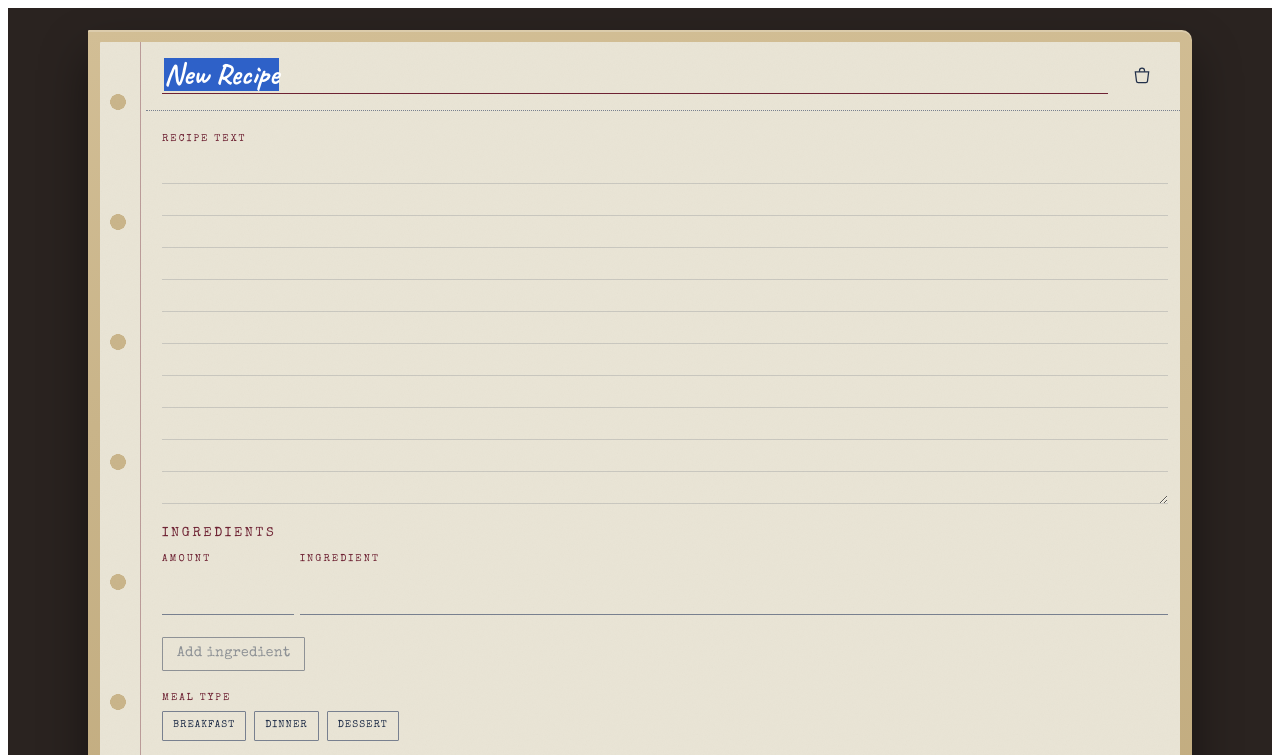
Scenario: rejection › names both when both are empty
Clear the field with test id "name". click: (635, 76)
box: [162,58,1108,94]
(page scrolled)
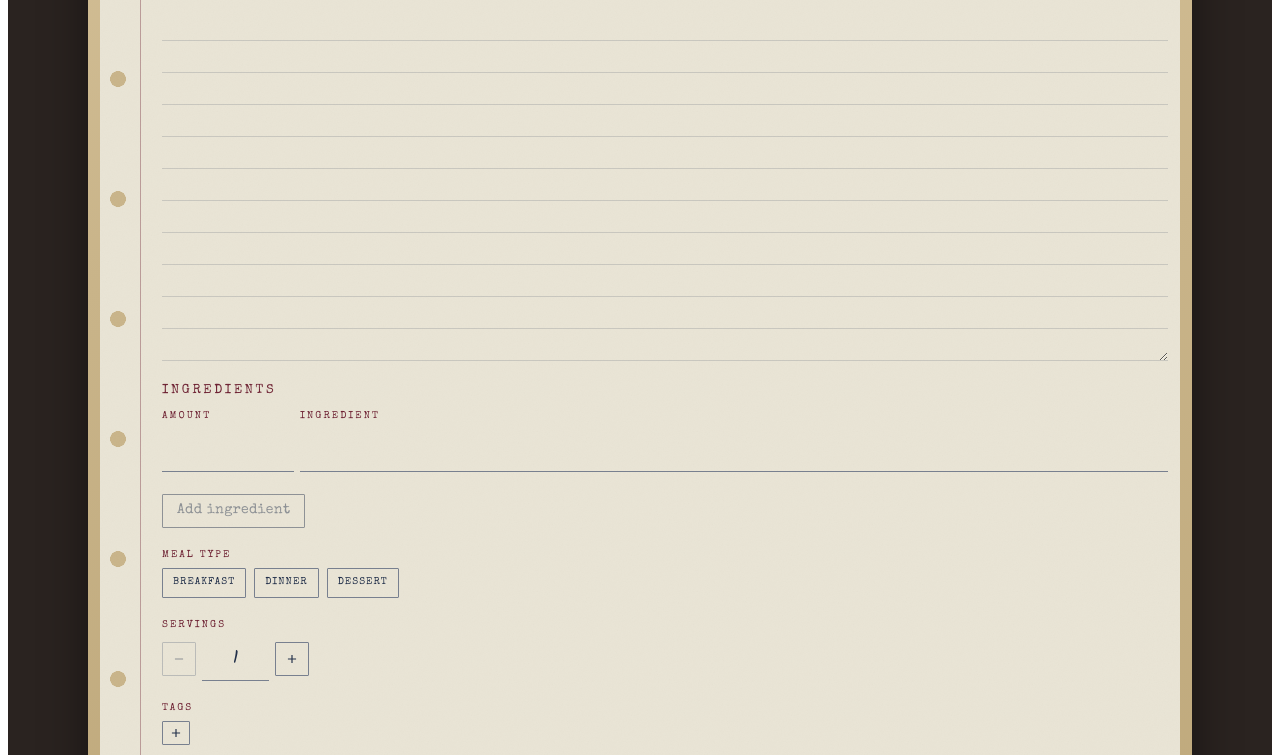
Submit the form
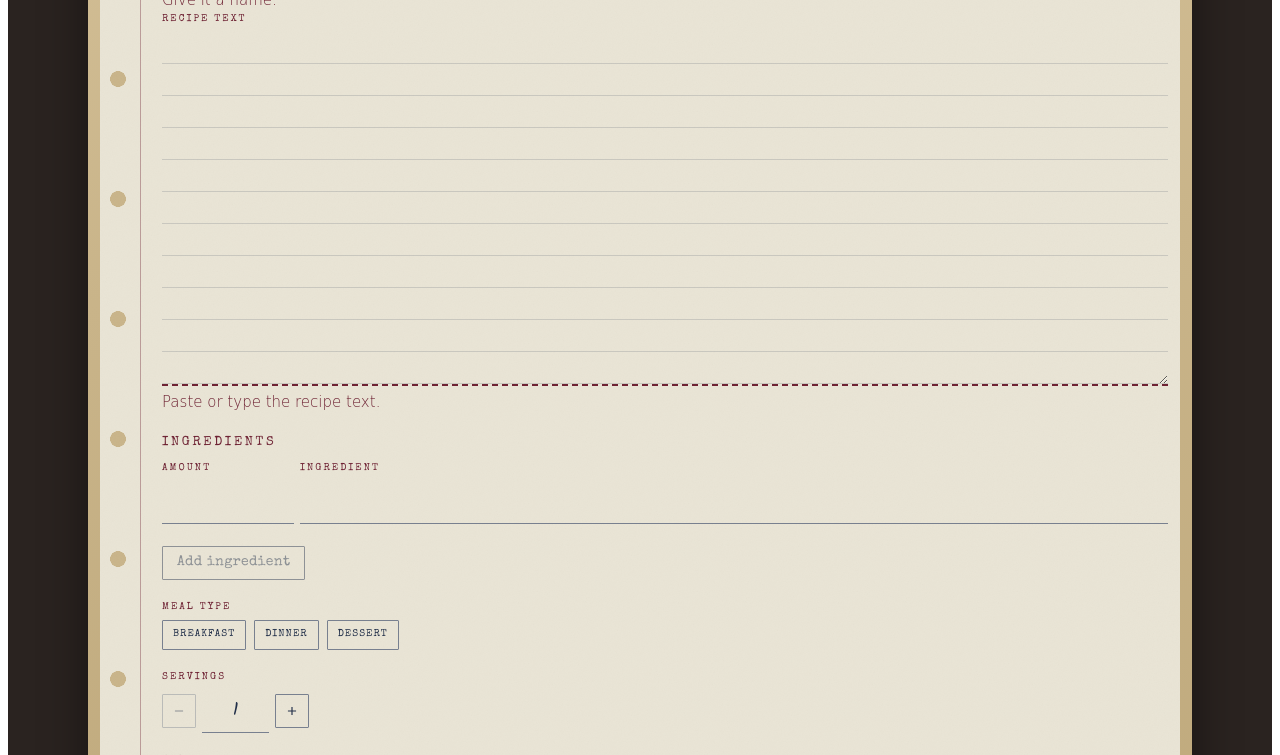
Expected: the message with test id "body-error" reads "Paste or type the recipe text.", [162,392,380,410]
